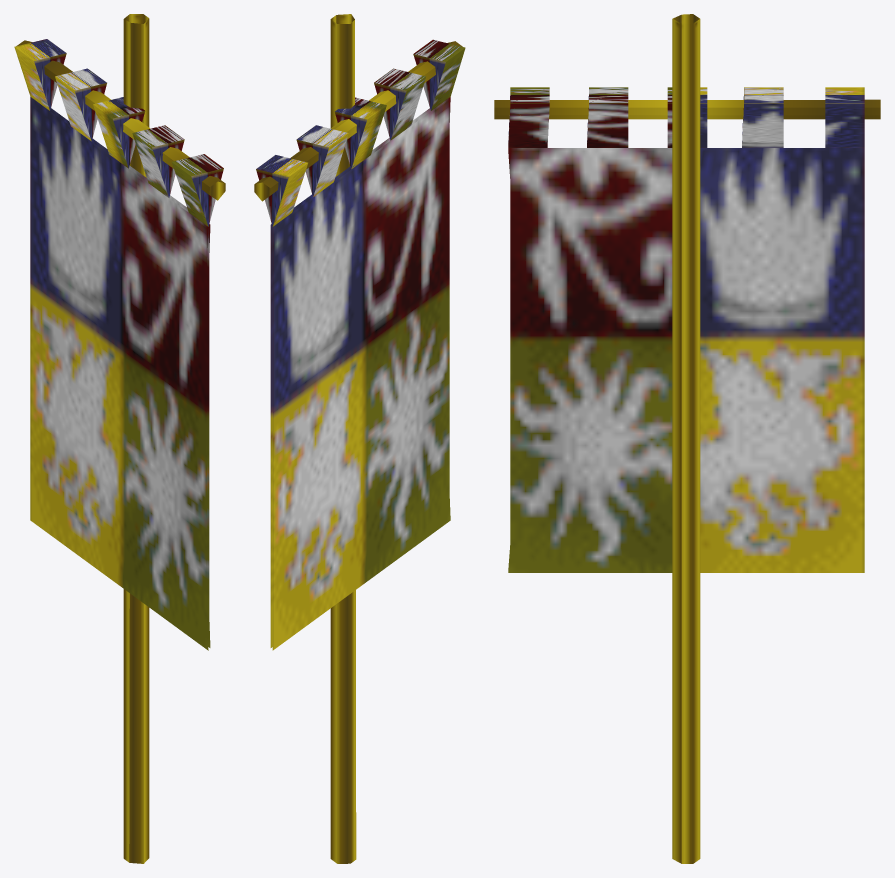
The model's file is bigrat.glb.
3 renders of one model, left to right at view 1: azimuth 30°, elevation 25°; view 2: azimuth 150°, elevation 25°; view 3: azimuth 270°, elevation 25°, orthographic.
Parts seen in each view (by area): view 1: bigrat; view 2: bigrat; view 3: bigrat.
Boxes of the visible parts, <box> form: bigrat: <box>14,14,225,863</box>; bigrat: <box>254,14,465,863</box>; bigrat: <box>494,14,880,863</box>.
Bounding box in the file's own units: 4.76 × 87.69 × 36.54.
2 materials, 2 textured.
